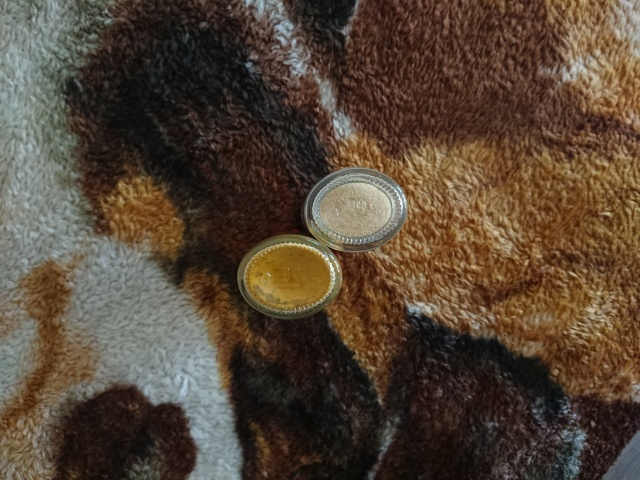Kotanyi Curry Spices Mix 70g: (232, 230, 345, 323)
Kotanyi Garlic Granules 70g: (297, 164, 411, 255)
